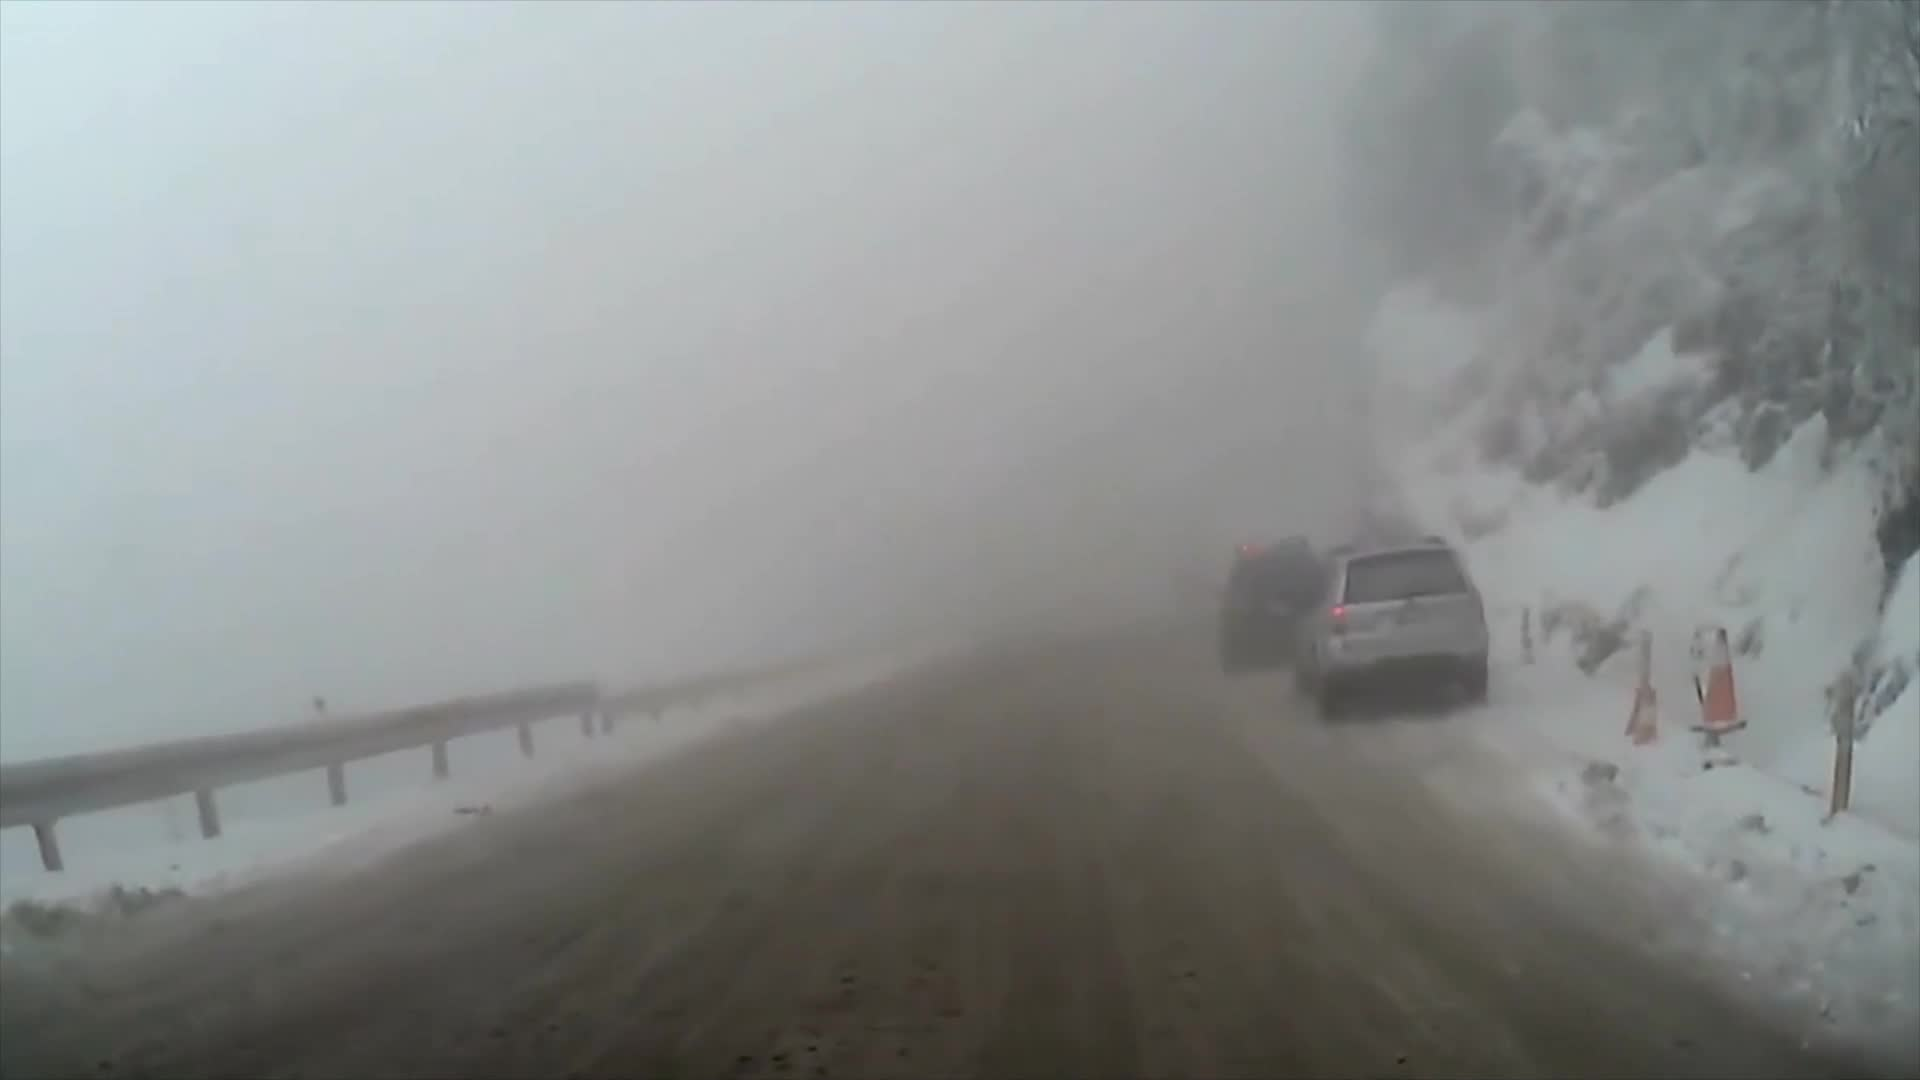vehicle: (1288, 533, 1489, 725), (1204, 526, 1337, 671)
